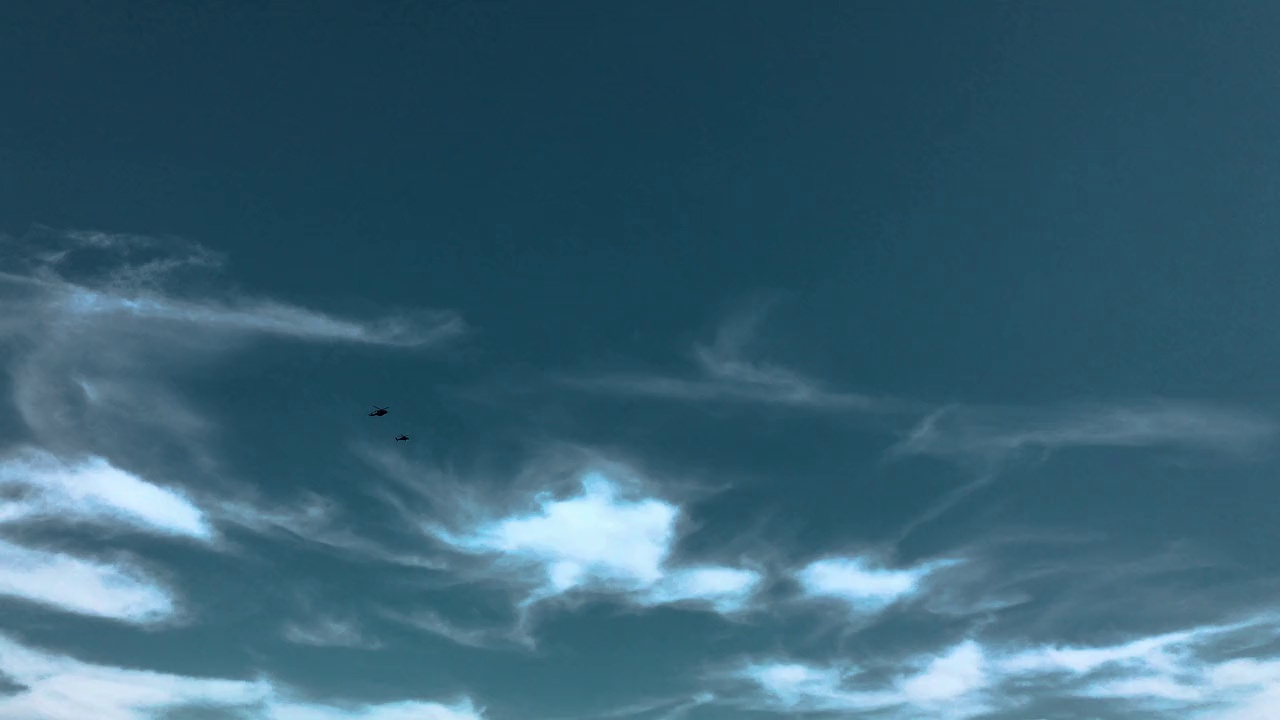heli: (368, 405, 388, 417), (394, 434, 410, 443)
